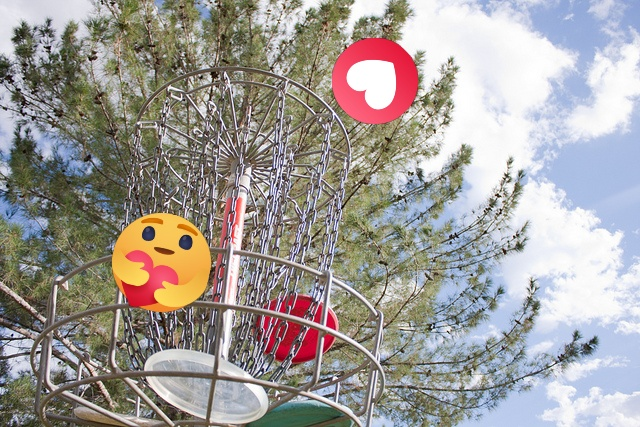care: (112, 213, 211, 312)
love: (332, 38, 418, 124)
